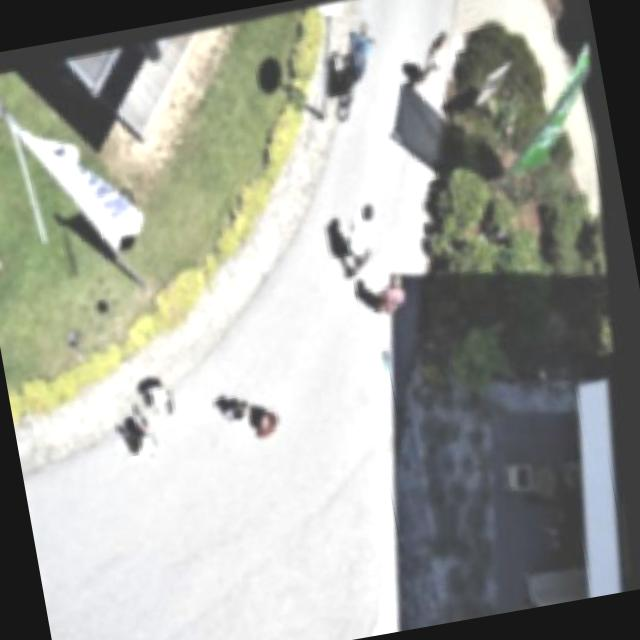Person: (404, 20, 462, 99), (330, 196, 387, 260), (116, 418, 176, 466), (373, 261, 417, 326), (135, 370, 188, 419), (217, 384, 264, 434), (251, 398, 297, 440)
